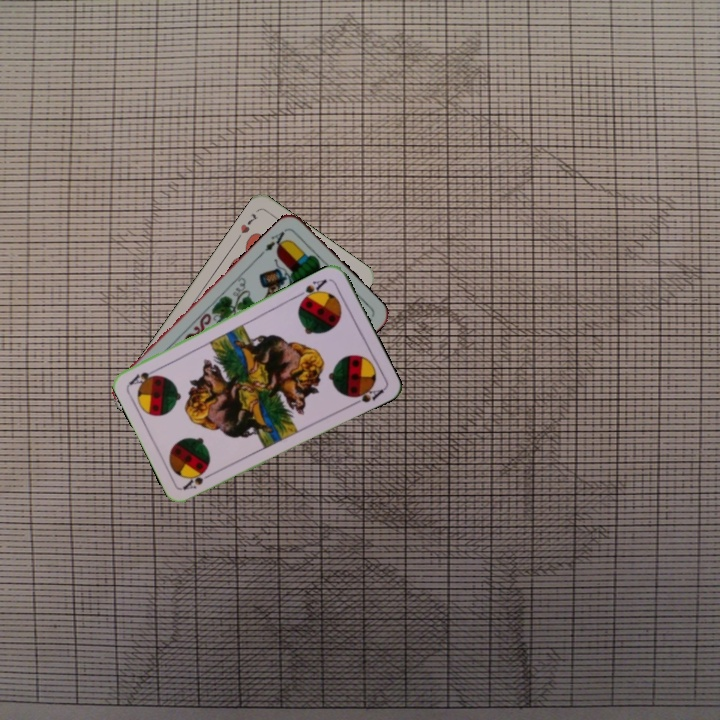EA: (261, 225, 291, 254)
H7: (233, 209, 261, 242)
SA: (294, 275, 330, 304), (179, 465, 217, 492)
